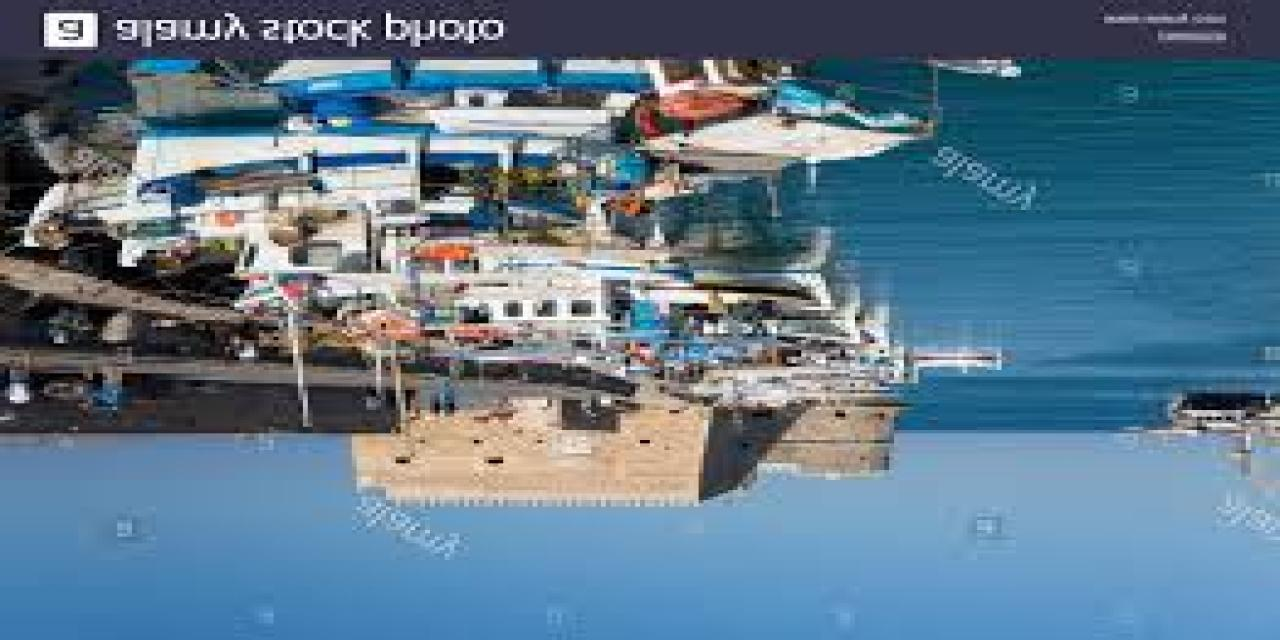Kules: (349, 398, 917, 507)
